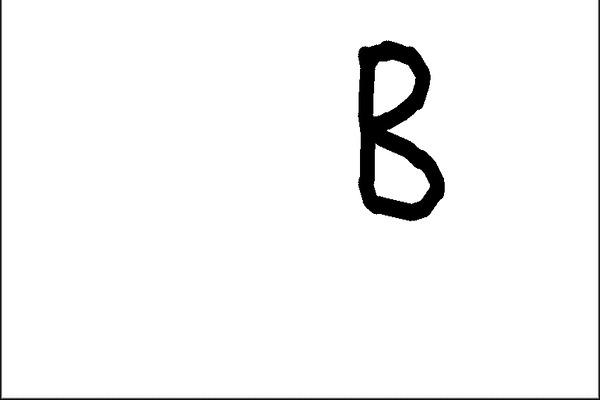B: (344, 35, 454, 227)
